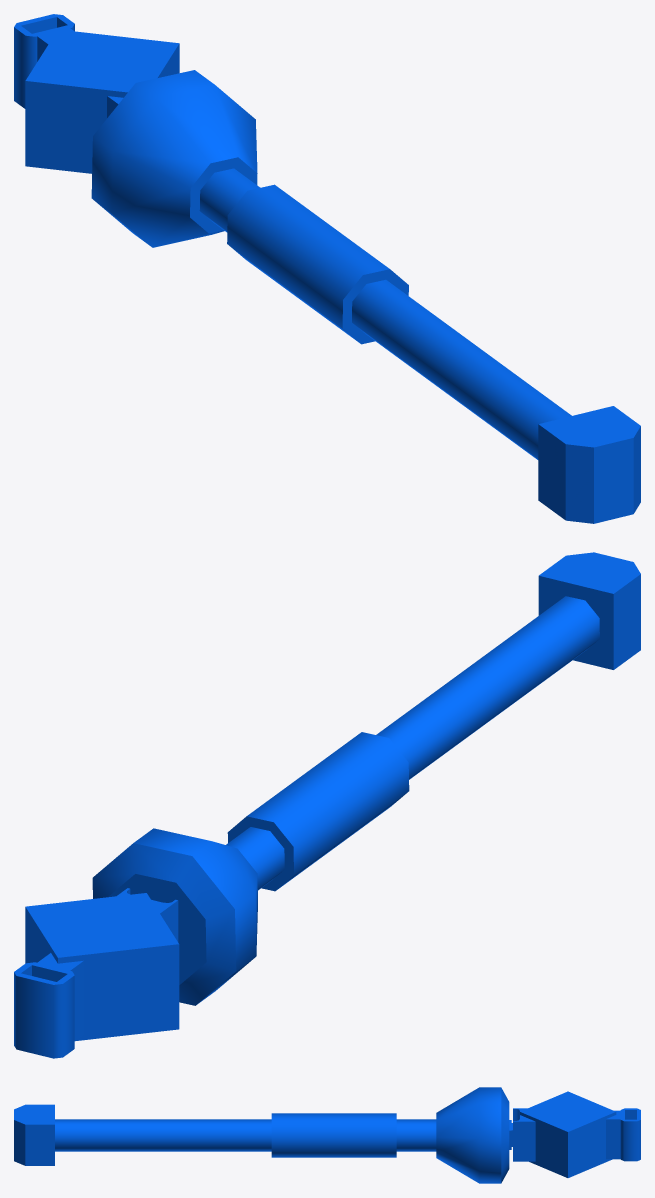
The model's file is PUCK_Weapon_Final.fbx.
3 renders of one model, top to bottom at view 1: azimuth 30°, elevation 25°; view 2: azimuth 150°, elevation 25°; view 3: azimuth 270°, elevation 25°, orthographic. The views are drawn at different scales.
Parts seen in each view (by area): view 1: Wand.001; view 2: Wand.001; view 3: Wand.001.
Part boxes in pixels (<box>): Wand.001: <box>14,14,640,523</box>; Wand.001: <box>14,552,640,1058</box>; Wand.001: <box>14,1087,640,1183</box>.
Bounding box in the file's own units: 15.46 × 14.44 × 101.
